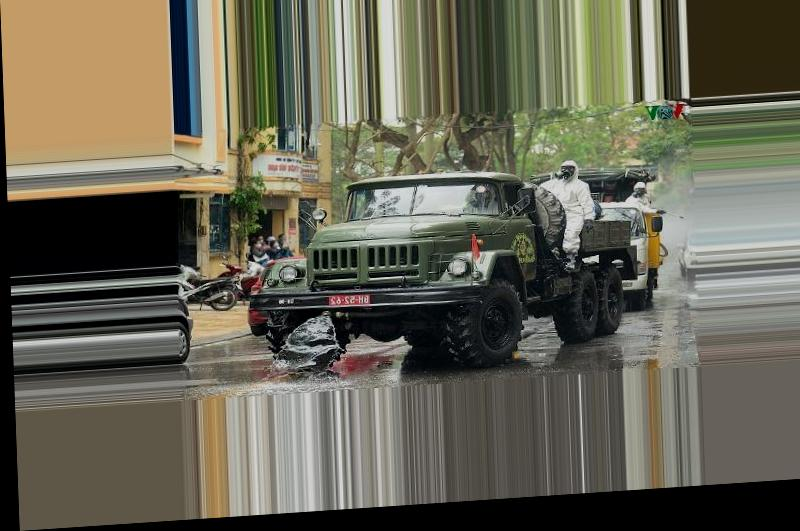License_Plate: (326, 290, 370, 309)
